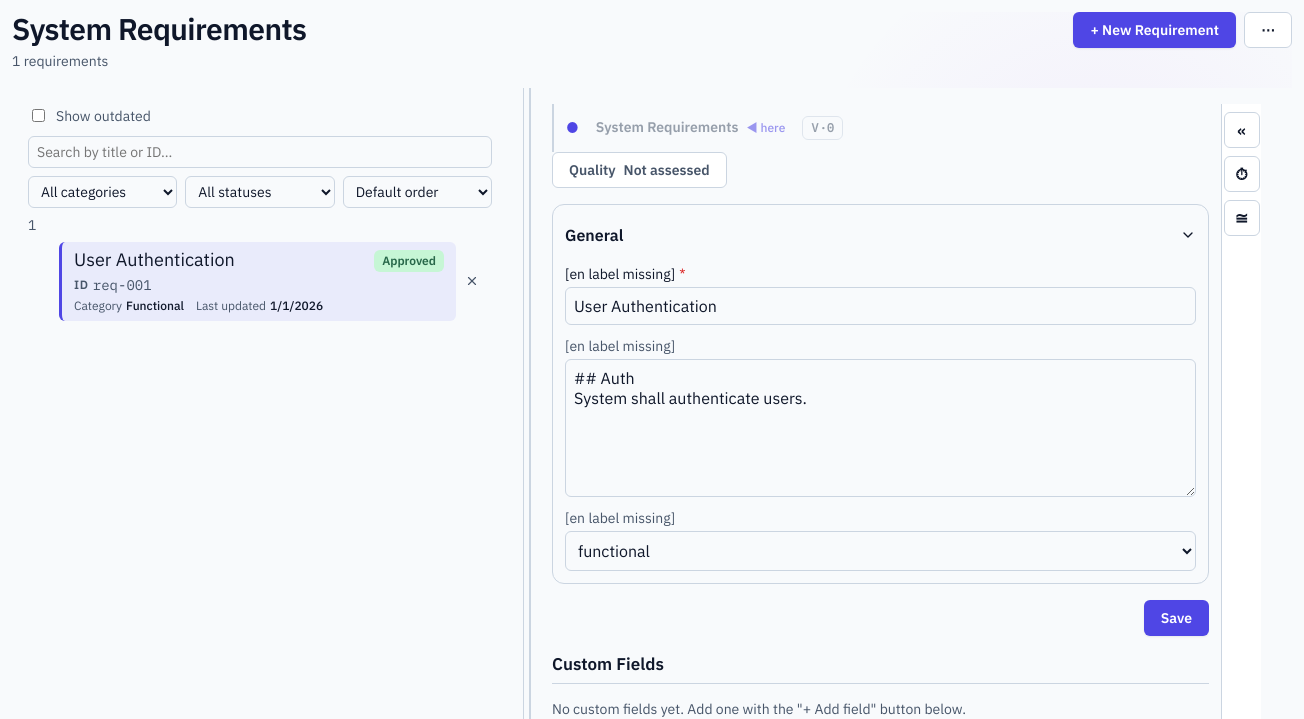
Test: RequirementEditors (COMP-RF-003 / REQ-L2-RF-003) › shows field-specific error message on save failure instead of generic fallback (REQ-009)
Click the button with test id "artifact-form-save" at {"x": 1176, "y": 618}, box [1144,600,1209,636]
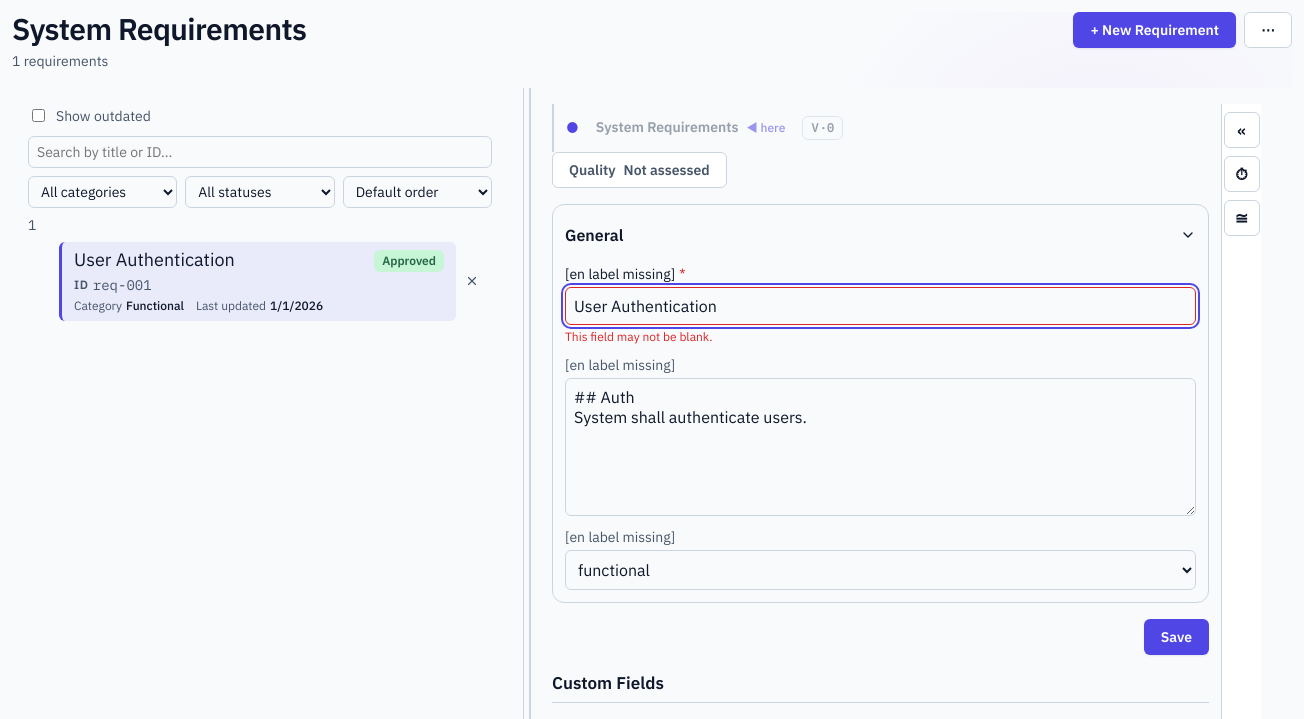
Result: the message reads "This field may not be blank." at [565,329,712,344]
